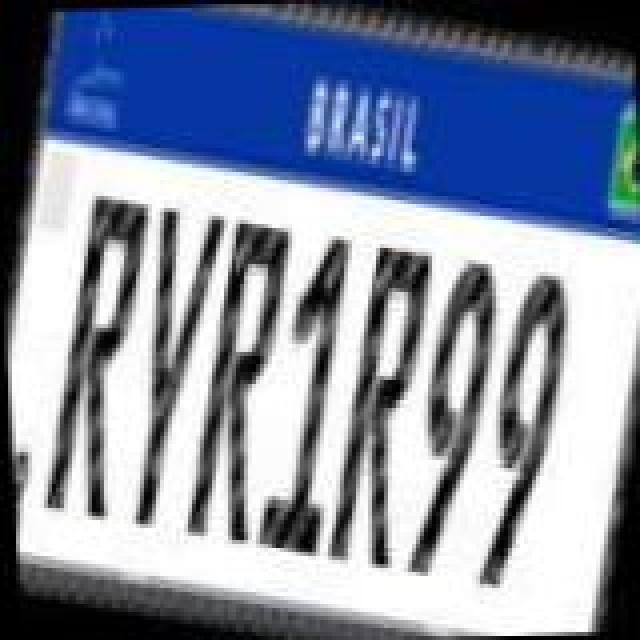1: (232, 222, 380, 562)
9: (374, 246, 522, 586), (448, 260, 596, 600)
R: (20, 188, 168, 524), (306, 238, 454, 574), (166, 214, 310, 546)
Y: (92, 200, 240, 540)
